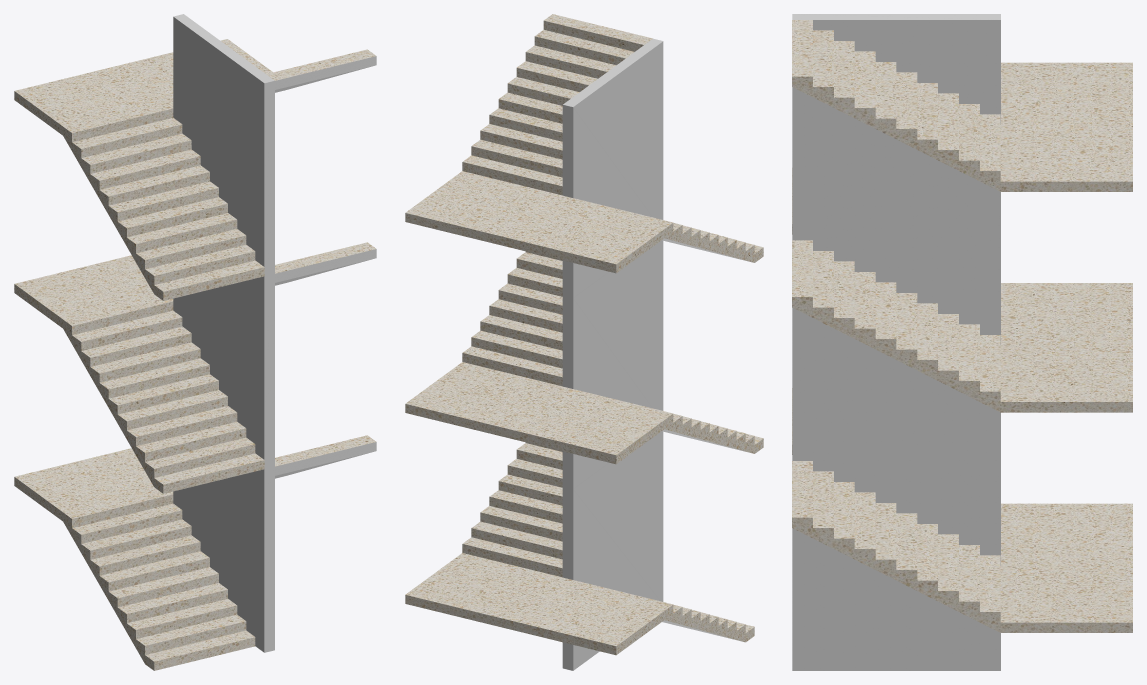
File: Staircase.fbx
3 views of the same model, side by side, from view 1: azimuth 30°, elevation 25°; view 2: azimuth 150°, elevation 25°; view 3: azimuth 270°, elevation 25° (orthographic). The views are drawn at different scales.
Parts seen in each view (by area): view 1: Staircase-P(1), Staircase-P(0), Staircase-P(S), Staircase-Wall-P(1), Staircase-Wall-P(0), Staircase-Wall-P(S); view 2: Staircase-P(1), Staircase-P(0), Staircase-P(S), Staircase-Wall-P(1), Staircase-Wall-P(0), Staircase-Wall-P(S); view 3: Staircase-Wall-P(1), Staircase-P(0), Staircase-P(1), Staircase-P(S), Staircase-Wall-P(0), Staircase-Wall-P(S).
Boxes of the visible parts, x1=… form: Staircase-P(1): x1=14, y1=39, x2=376, y2=300; Staircase-P(0): x1=14, y1=242, x2=376, y2=493; Staircase-P(S): x1=14, y1=435, x2=376, y2=670; Staircase-Wall-P(1): x1=173, y1=14, x2=274, y2=275; Staircase-Wall-P(0): x1=173, y1=273, x2=274, y2=468; Staircase-Wall-P(S): x1=173, y1=466, x2=274, y2=652; Staircase-P(1): x1=405, y1=14, x2=763, y2=273; Staircase-P(0): x1=405, y1=251, x2=763, y2=464; Staircase-P(S): x1=405, y1=442, x2=754, y2=655; Staircase-Wall-P(1): x1=562, y1=38, x2=663, y2=297; Staircase-Wall-P(0): x1=562, y1=240, x2=663, y2=488; Staircase-Wall-P(S): x1=562, y1=431, x2=663, y2=670; Staircase-Wall-P(1): x1=792, y1=14, x2=1000, y2=240; Staircase-P(0): x1=792, y1=240, x2=1132, y2=454; Staircase-P(1): x1=792, y1=20, x2=1132, y2=234; Staircase-P(S): x1=792, y1=461, x2=1132, y2=632; Staircase-Wall-P(0): x1=792, y1=240, x2=1000, y2=460; Staircase-Wall-P(S): x1=792, y1=461, x2=1000, y2=670.
Bounding box in the file's own units: 486 × 1240 × 588.
3 materials, 3 textured.
